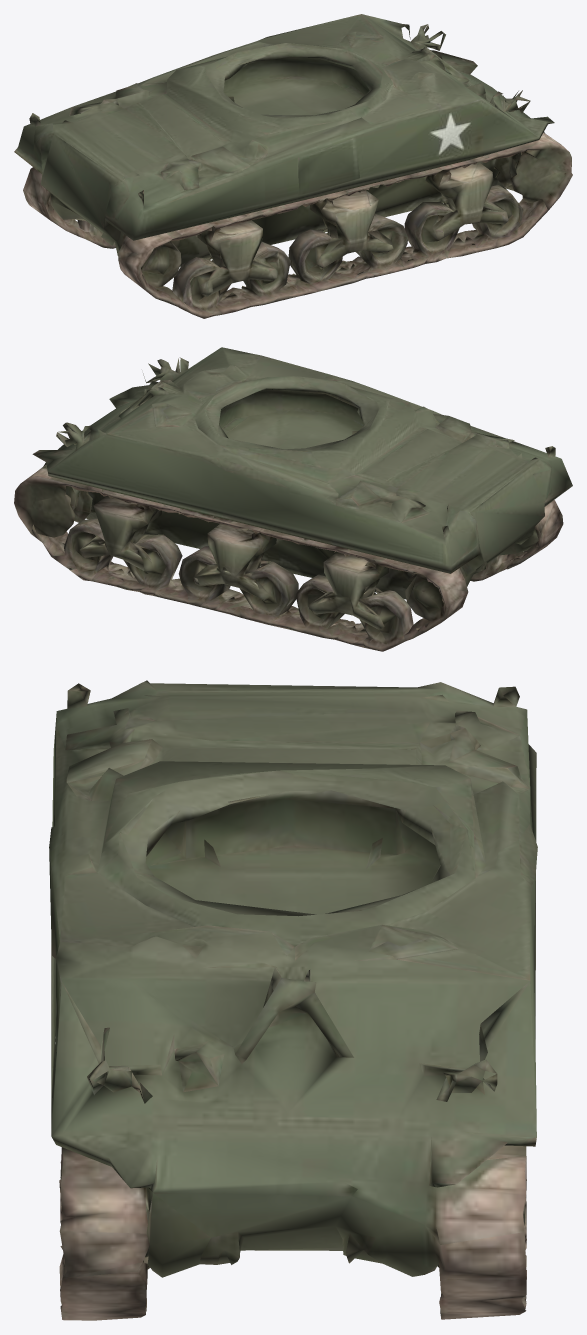
Rendered from tank-sherman-hull.glb.
The picture shows the model from 3 angles, top to bottom: view 1: azimuth 30°, elevation 25°; view 2: azimuth 150°, elevation 25°; view 3: azimuth 270°, elevation 25°; orthographic projection. The views are drawn at different scales.
Visible parts, largest first — view 1: Mesh_0; view 2: Mesh_0; view 3: Mesh_0.
Boxes of the visible parts, bbox=[...] form: Mesh_0: bbox=[14, 14, 572, 318]; Mesh_0: bbox=[14, 347, 572, 651]; Mesh_0: bbox=[49, 680, 537, 1320].
Bounding box in the file's own units: 1.9 × 0.6661 × 0.9045.
1 material, 1 textured.
